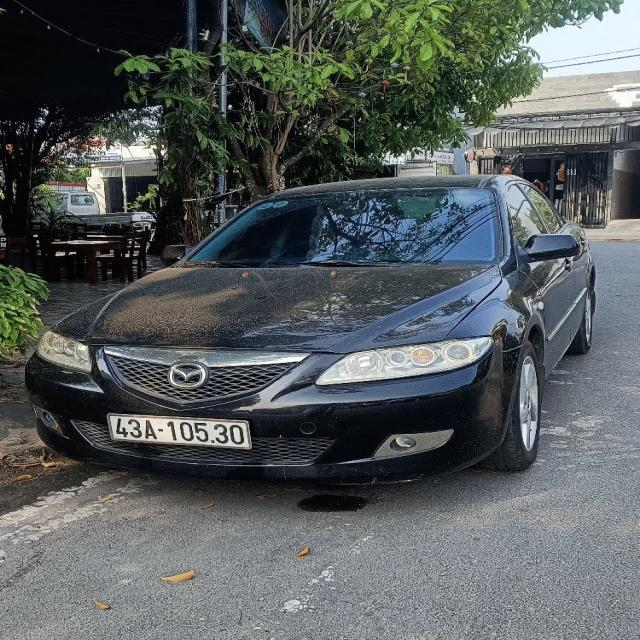car: (23, 163, 610, 501)
plate: (106, 411, 255, 452)
